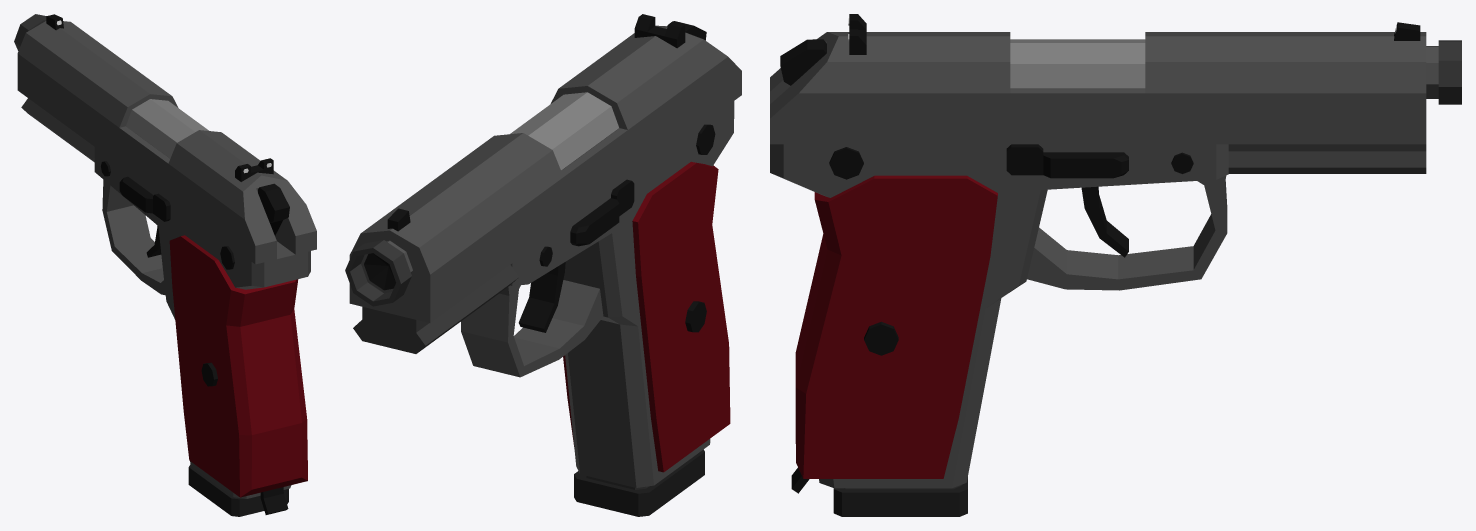
Rendered from usp.lod2.glb.
3 views of the same model, side by side, from view 1: azimuth 30°, elevation 25°; view 2: azimuth 150°, elevation 25°; view 3: azimuth 270°, elevation 25° (orthographic). The views are drawn at different scales.
Visible parts, largest first — view 1: Pistol_Compact_East; view 2: Pistol_Compact_East; view 3: Pistol_Compact_East.
Boxes of the visible parts, left/top/right/bottom form: Pistol_Compact_East: left=14, top=14, right=316, bottom=516; Pistol_Compact_East: left=345, top=14, right=741, bottom=516; Pistol_Compact_East: left=770, top=14, right=1461, bottom=516.
Size of the model in its own units: 0.0298 by 0.1252 by 0.166.
